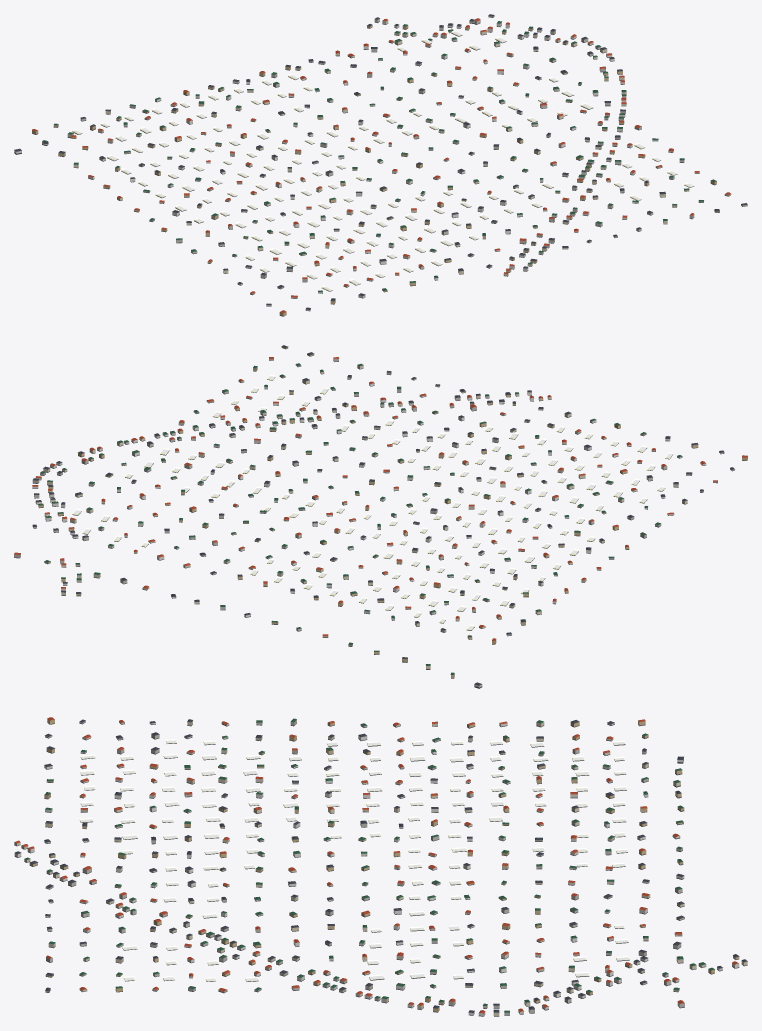
The model's file is buildings_T_E01_S02.glb.
The picture shows the model from 3 angles, top to bottom: view 1: azimuth 30°, elevation 25°; view 2: azimuth 150°, elevation 25°; view 3: azimuth 270°, elevation 25°; orthographic projection. The views are drawn at different scales.
Visible parts, largest first — view 1: T_E01_S02_slope_seating_foundations, T_E01_S02_roofs_agri_greenhouse_arch, T_E01_S02_roofs_roof_slate_French_villa_hip, T_E01_S02_roofs_roof_terracotta_gable, T_E01_S02_roofs_roof_pine_green_hip, T_E01_S02_walls_wall_modern_warm_white, T_E01_S02_walls_wall_pastel_sand_gray, T_E01_S02_walls_wall_french_ochre_villa, T_E01_S02_walls_wall_dalat_cream_stucco; view 2: T_E01_S02_slope_seating_foundations, T_E01_S02_roofs_agri_greenhouse_arch, T_E01_S02_roofs_roof_slate_French_villa_hip, T_E01_S02_roofs_roof_pine_green_hip, T_E01_S02_roofs_roof_terracotta_gable, T_E01_S02_walls_wall_modern_warm_white, T_E01_S02_walls_wall_pastel_sand_gray, T_E01_S02_walls_wall_french_ochre_villa, T_E01_S02_walls_wall_dalat_cream_stucco; view 3: T_E01_S02_slope_seating_foundations, T_E01_S02_roofs_agri_greenhouse_arch, T_E01_S02_roofs_roof_slate_French_villa_hip, T_E01_S02_roofs_roof_pine_green_hip, T_E01_S02_roofs_roof_terracotta_gable, T_E01_S02_walls_wall_modern_warm_white, T_E01_S02_walls_wall_pastel_sand_gray, T_E01_S02_walls_wall_french_ochre_villa, T_E01_S02_walls_wall_dalat_cream_stucco.
Boxes of the visible parts, x1,y1,x2,y2 form: T_E01_S02_slope_seating_foundations: (14, 16, 747, 316); T_E01_S02_roofs_agri_greenhouse_arch: (72, 30, 694, 291); T_E01_S02_roofs_roof_slate_French_villa_hip: (14, 14, 747, 309); T_E01_S02_roofs_roof_terracotta_gable: (32, 18, 730, 313); T_E01_S02_roofs_roof_pine_green_hip: (42, 21, 716, 292); T_E01_S02_walls_wall_modern_warm_white: (14, 20, 638, 310); T_E01_S02_walls_wall_pastel_sand_gray: (80, 15, 703, 294); T_E01_S02_walls_wall_french_ochre_villa: (32, 25, 747, 316); T_E01_S02_walls_wall_dalat_cream_stucco: (67, 18, 731, 275); T_E01_S02_slope_seating_foundations: (14, 347, 747, 688); T_E01_S02_roofs_agri_greenhouse_arch: (72, 374, 673, 630); T_E01_S02_roofs_roof_slate_French_villa_hip: (32, 345, 734, 685); T_E01_S02_roofs_roof_pine_green_hip: (38, 363, 682, 674); T_E01_S02_roofs_roof_terracotta_gable: (14, 357, 747, 640); T_E01_S02_walls_wall_modern_warm_white: (32, 383, 734, 687); T_E01_S02_walls_wall_pastel_sand_gray: (14, 357, 717, 632); T_E01_S02_walls_wall_french_ochre_villa: (38, 347, 747, 677); T_E01_S02_walls_wall_dalat_cream_stucco: (36, 359, 687, 668); T_E01_S02_slope_seating_foundations: (14, 722, 747, 1016); T_E01_S02_roofs_agri_greenhouse_arch: (79, 739, 629, 981); T_E01_S02_roofs_roof_slate_French_villa_hip: (15, 719, 747, 1012); T_E01_S02_roofs_roof_pine_green_hip: (24, 718, 714, 1012); T_E01_S02_roofs_roof_terracotta_gable: (15, 717, 738, 1013); T_E01_S02_walls_wall_modern_warm_white: (14, 721, 739, 1015); T_E01_S02_walls_wall_pastel_sand_gray: (44, 720, 684, 1014); T_E01_S02_walls_wall_french_ochre_villa: (29, 719, 739, 1011); T_E01_S02_walls_wall_dalat_cream_stucco: (14, 721, 747, 1015).
Bounding box in the file's own units: 1859 × 138 × 1933.
